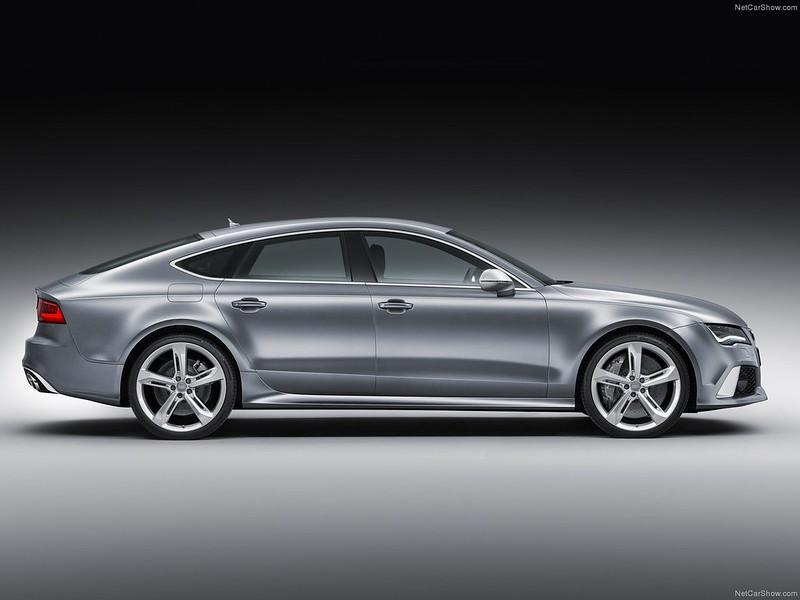car: (16, 212, 767, 435)
